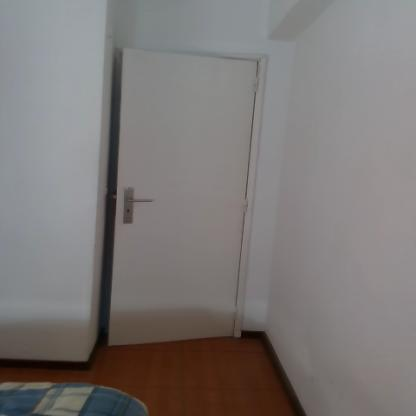closed: (98, 49, 266, 346)
